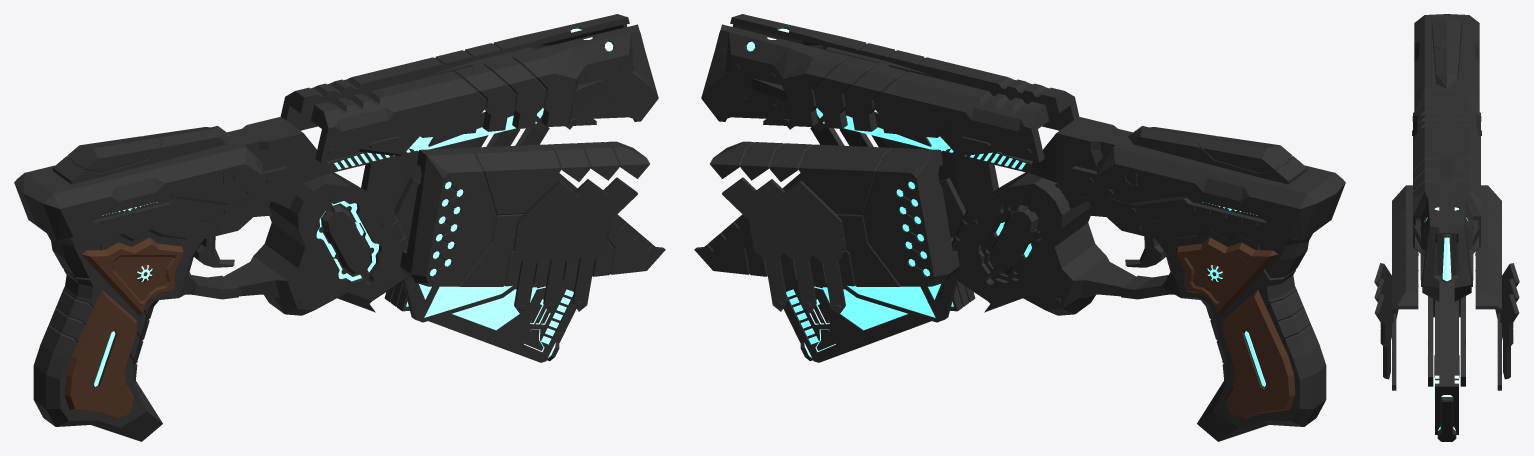
Rendered from cerevo_dominator_eliminator.glb.
3 renders of one model, left to right at view 1: azimuth 30°, elevation 25°; view 2: azimuth 150°, elevation 25°; view 3: azimuth 270°, elevation 25°, orthographic. The views are drawn at different scales.
Bounding box in the file's own units: 4.13 × 2.02 × 1.06.
